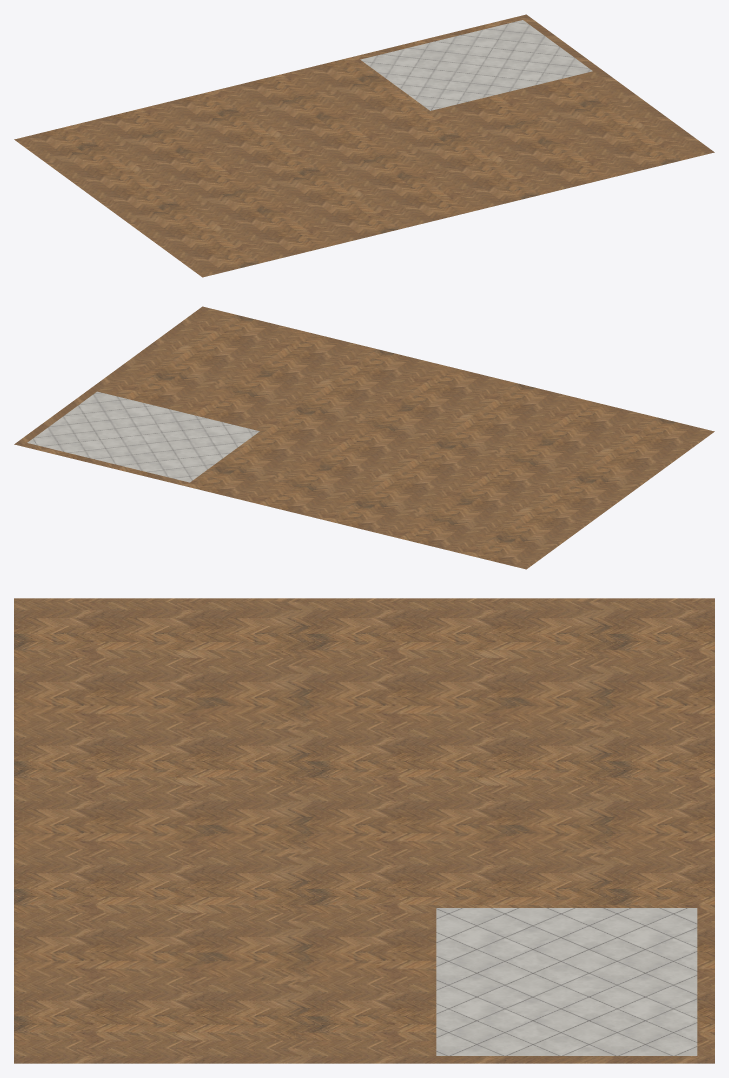
File: floor.glb
3 views of the same model, one above another, from view 1: azimuth 30°, elevation 25°; view 2: azimuth 150°, elevation 25°; view 3: azimuth 270°, elevation 25° (orthographic). The views are drawn at different scales.
Visible parts, largest first — view 1: floor; view 2: floor; view 3: floor.
Part boxes in pixels (x1,y1,x2,y2): floor: (14,14,714,277); floor: (14,306,714,569); floor: (14,598,714,1063).
Bounding box in the file's own units: 12.4 × 0.002 × 7.9.
Materials: 2 (2 with a texture image).
